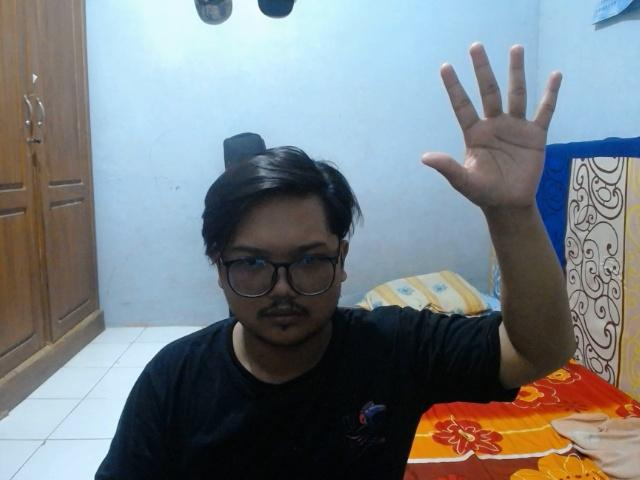Release: (416, 38, 571, 213)
